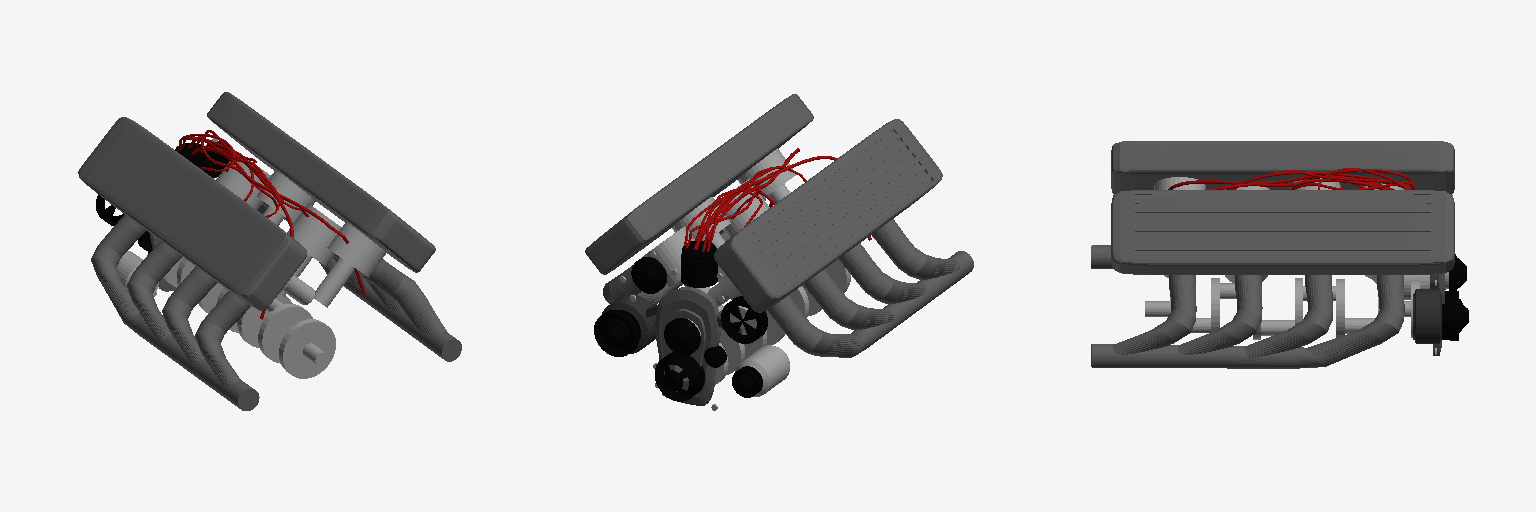
File: engine.obj
3 views of the same model, side by side, from view 1: azimuth 30°, elevation 25°; view 2: azimuth 150°, elevation 25°; view 3: azimuth 270°, elevation 25° (orthographic).
Visible parts, largest first — view 1: Cylinder.037_Cylinder.036; view 2: Cylinder.037_Cylinder.036; view 3: Cylinder.037_Cylinder.036.
Part boxes in pixels (x1,y1,x2,y2): Cylinder.037_Cylinder.036: (78,92,461,410); Cylinder.037_Cylinder.036: (585,94,973,410); Cylinder.037_Cylinder.036: (1091,141,1468,368).
Bounding box in the file's own units: 2 × 1.55 × 2.9.